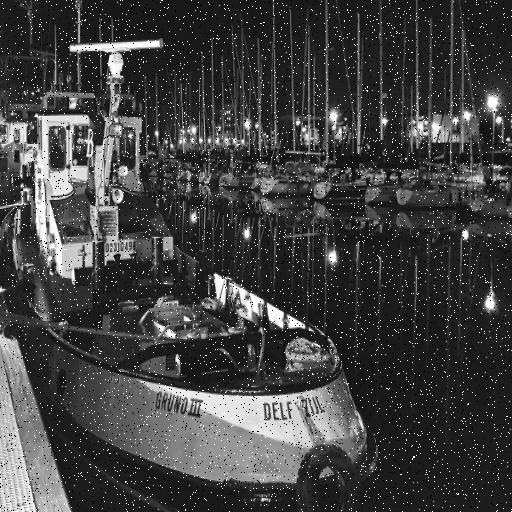tugboat: (1, 16, 385, 512)
